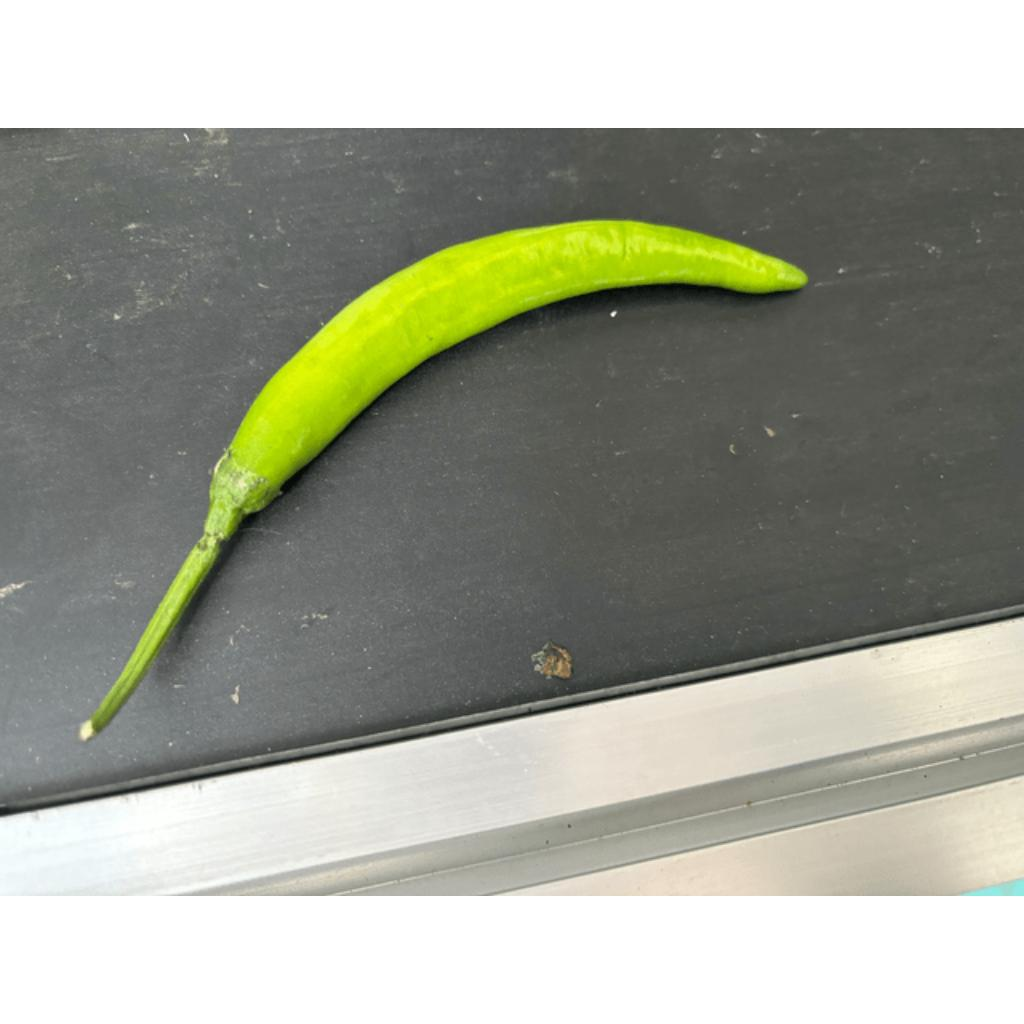chili: (206, 219, 809, 517)
